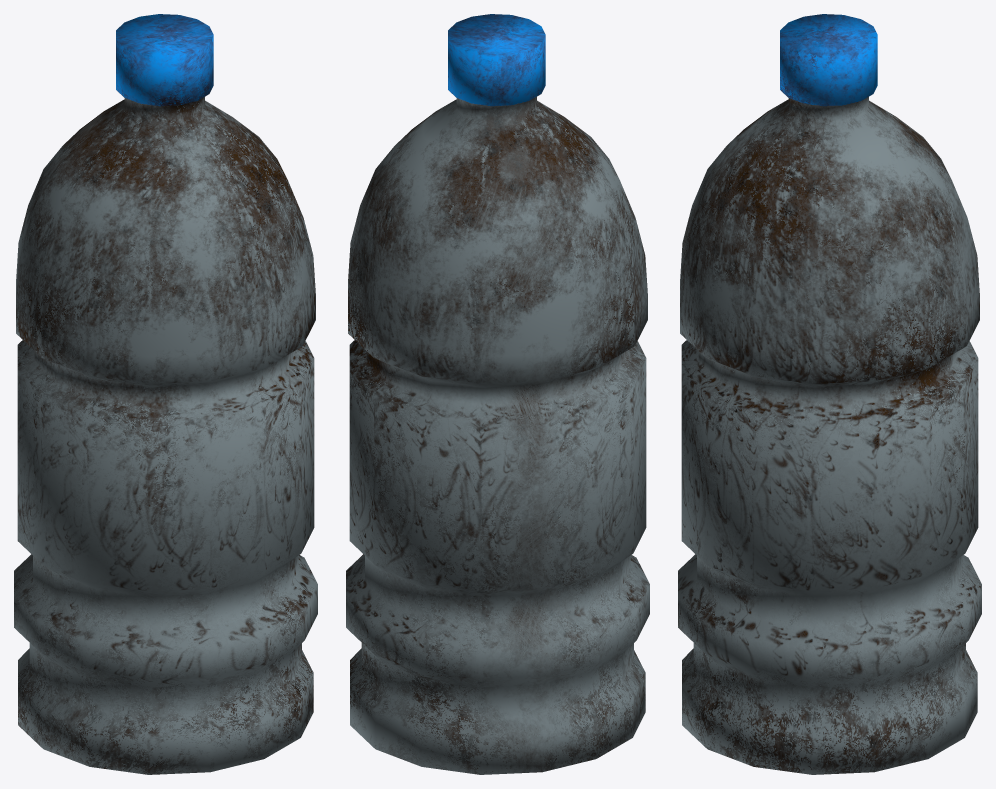
The model's file is Agua.obj.
3 views of the same model, side by side, from view 1: azimuth 30°, elevation 25°; view 2: azimuth 150°, elevation 25°; view 3: azimuth 270°, elevation 25° (orthographic).
Visible parts, largest first — view 1: Agua; view 2: Agua; view 3: Agua.
Boxes of the visible parts, x1,y1,x2,y2 form: Agua: (14,14,317,774); Agua: (346,14,649,774); Agua: (678,14,981,774).
Bounding box in the file's own units: 1.35 × 3.31 × 1.35.
1 material, 1 textured.
